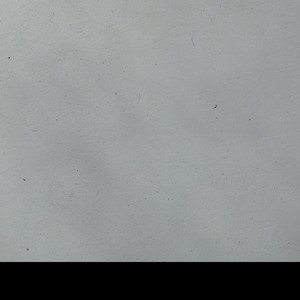base: (1, 1, 299, 261)
